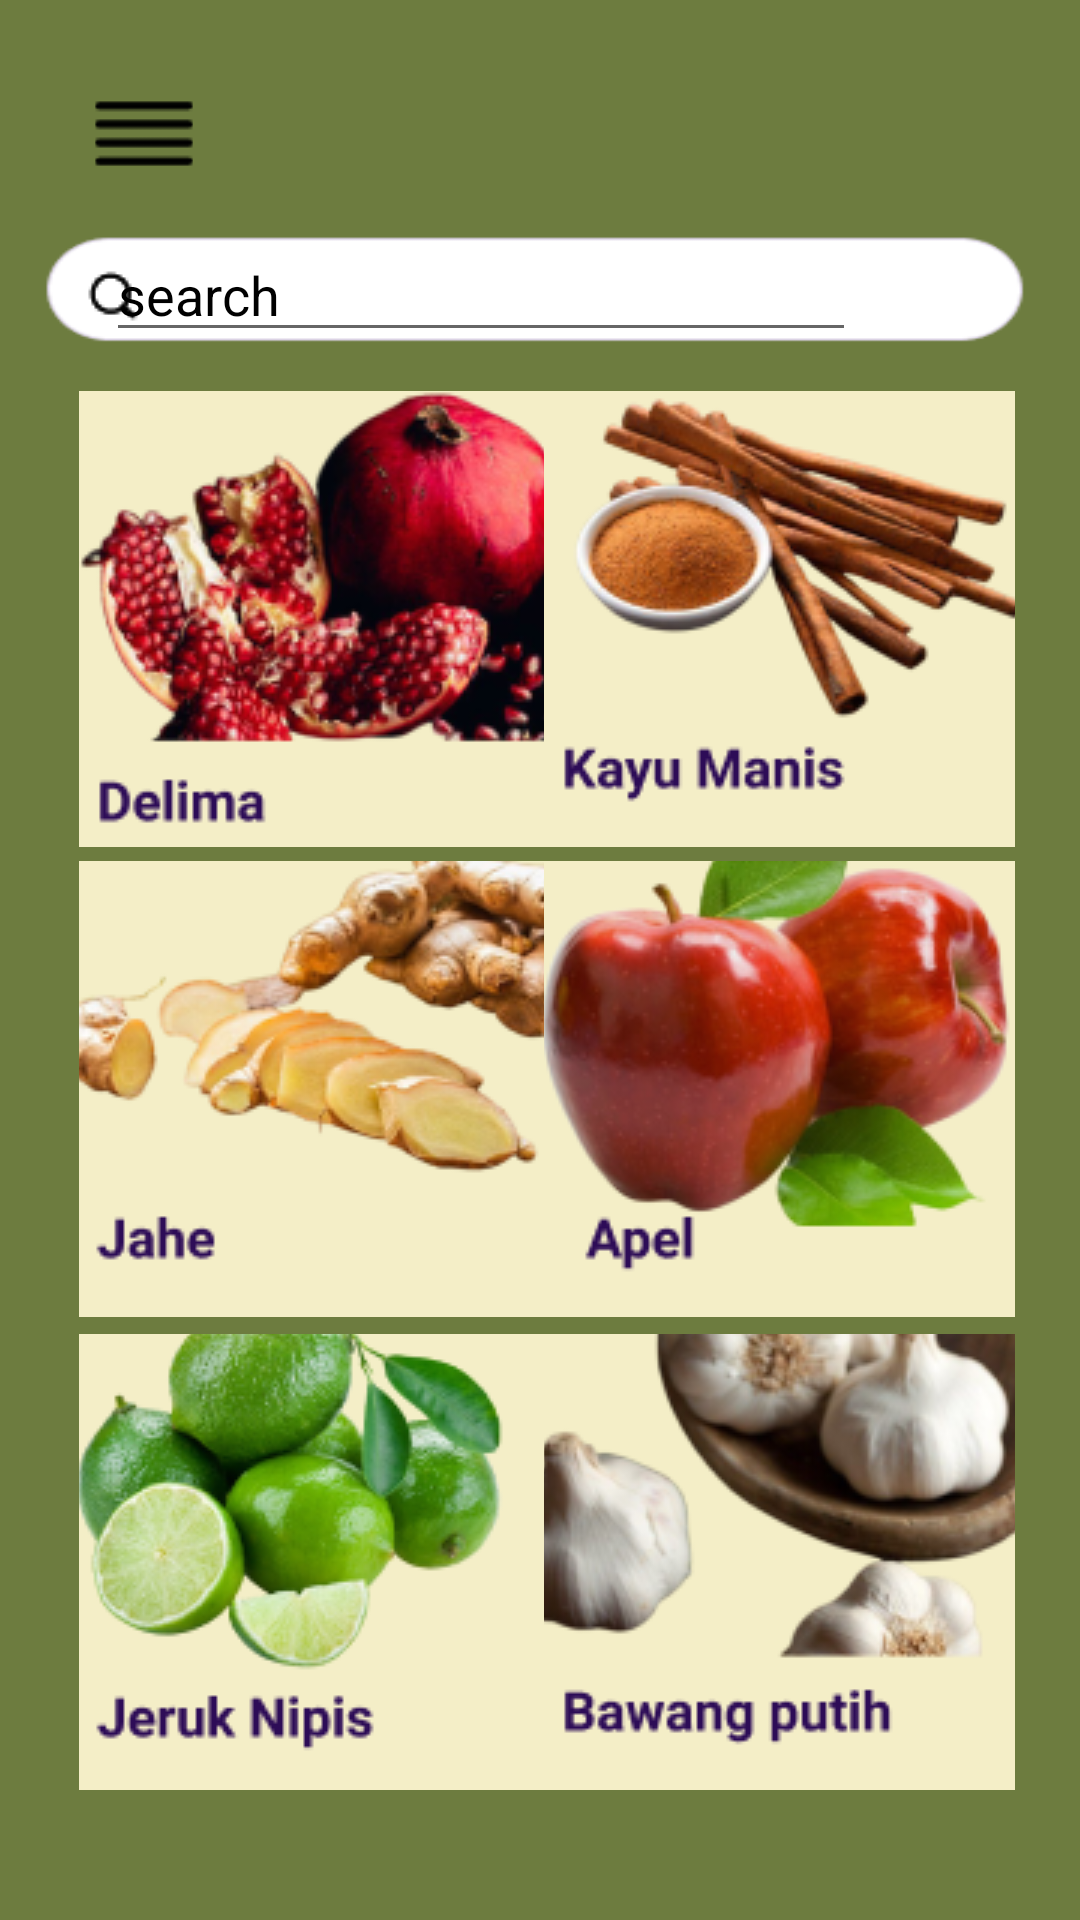

Point at icon controls on the screen. Image size 1080x1920, points as [x,y].
sidebar: [144,133]
